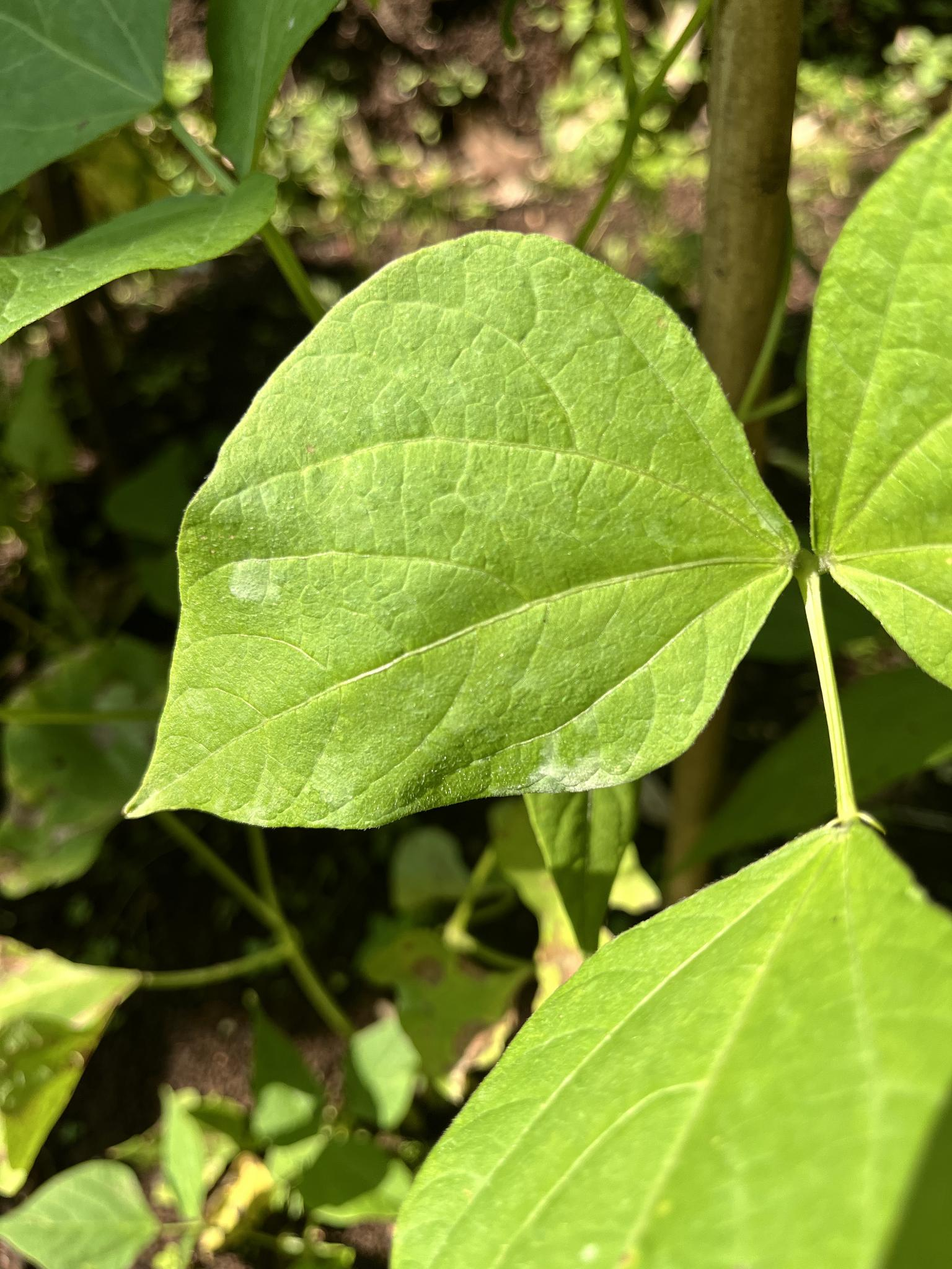embun tepung: (526, 736, 643, 795), (224, 549, 295, 600)
